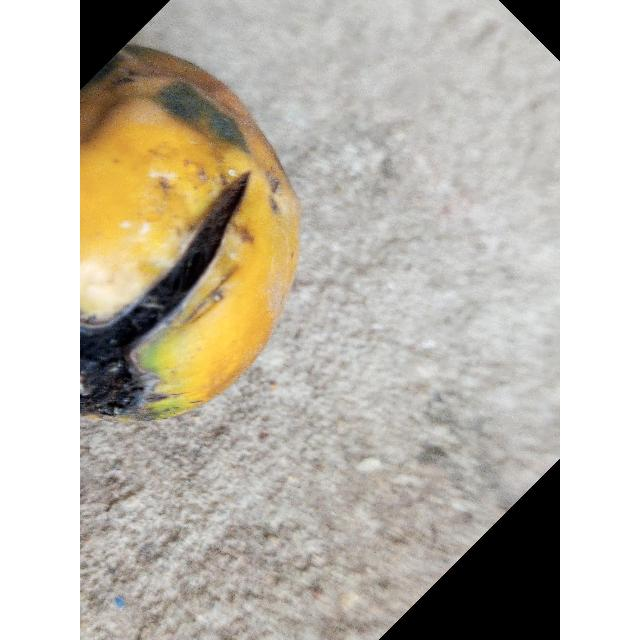damaged: (80, 46, 301, 417)
